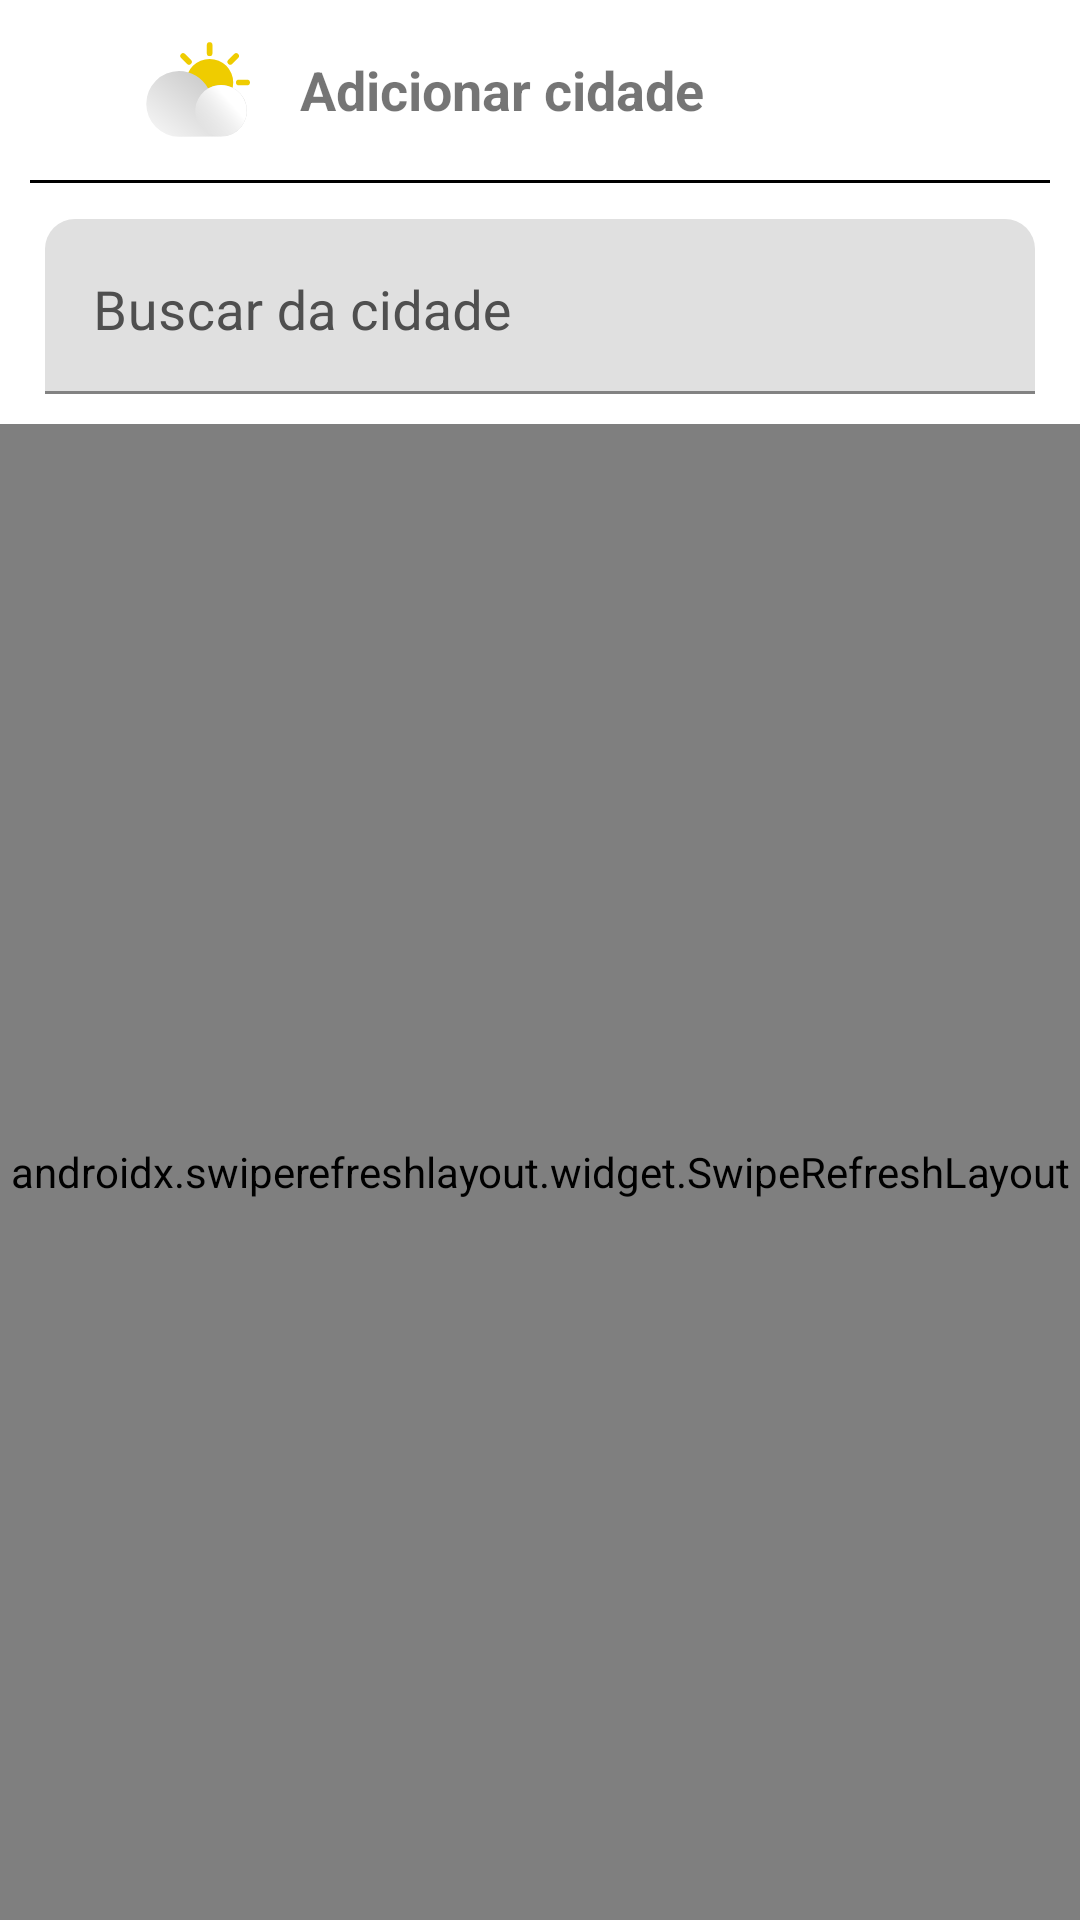

Icons on this 1080px×1920px Android screen, each with its box as (x1, y1, x2, y2):
sun and cloudy: (148, 42, 250, 136)
